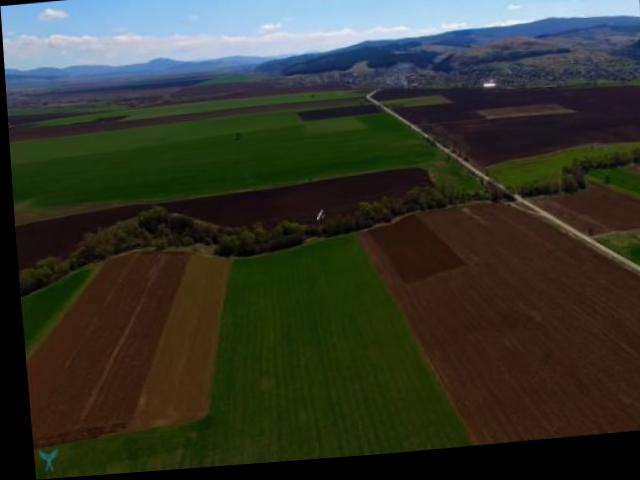uav: (307, 210, 326, 230)
